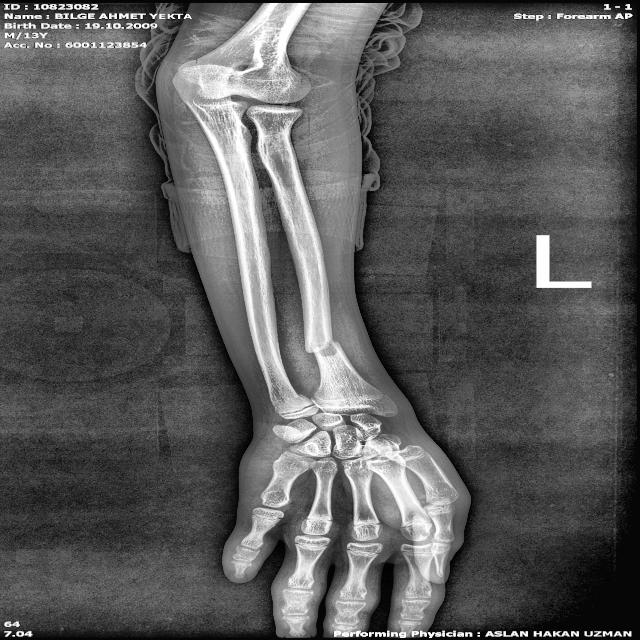Fracture: (298, 329, 349, 367)
